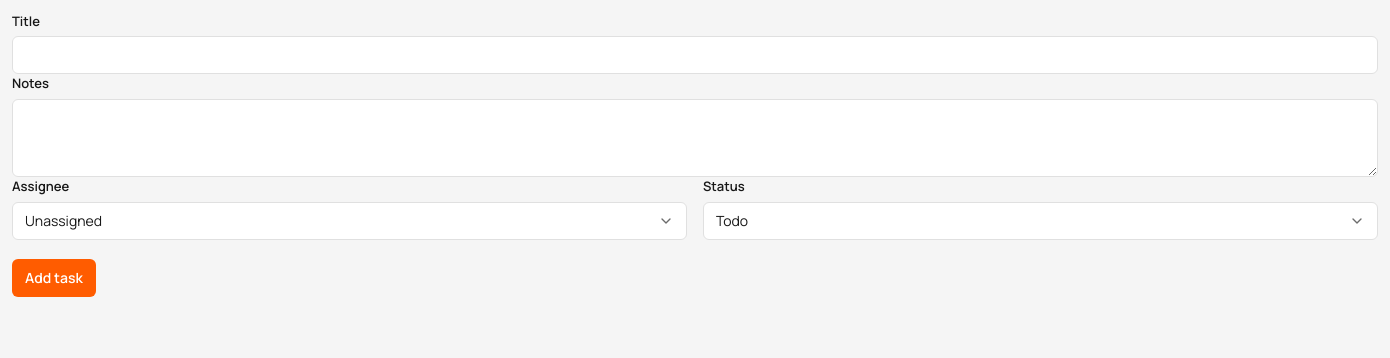
Test case: CreateTaskForm › shows the server error message
Type "Fix login" into the field labelled "Title".
click(695, 55); type("Fix login")  # box [12, 36, 1378, 74]
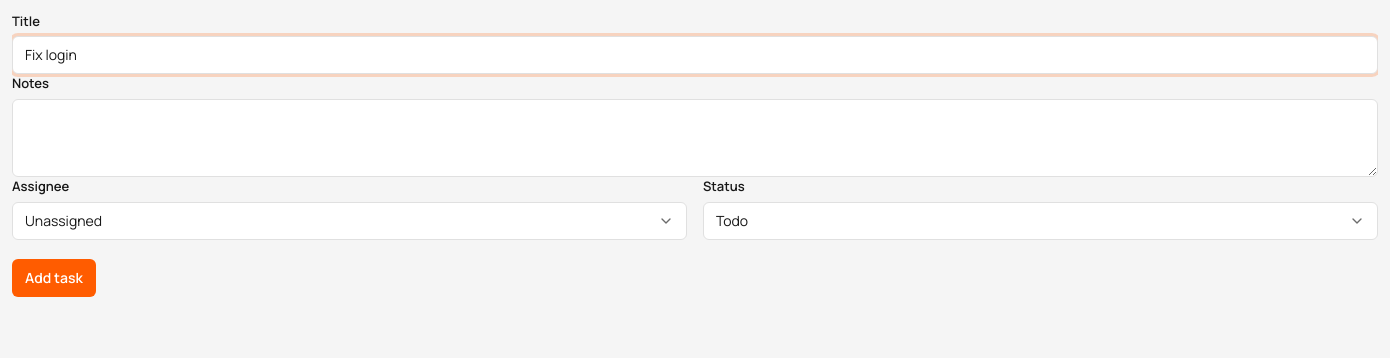
Click the button "Add task".
click(54, 278)  # box [12, 259, 96, 297]
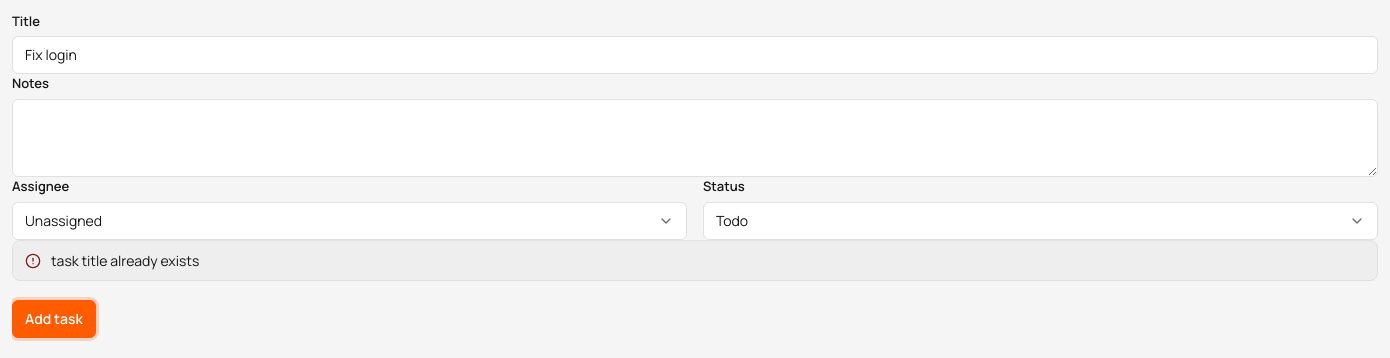
Check: the message reads "task title already exists", box [51, 251, 199, 270]
